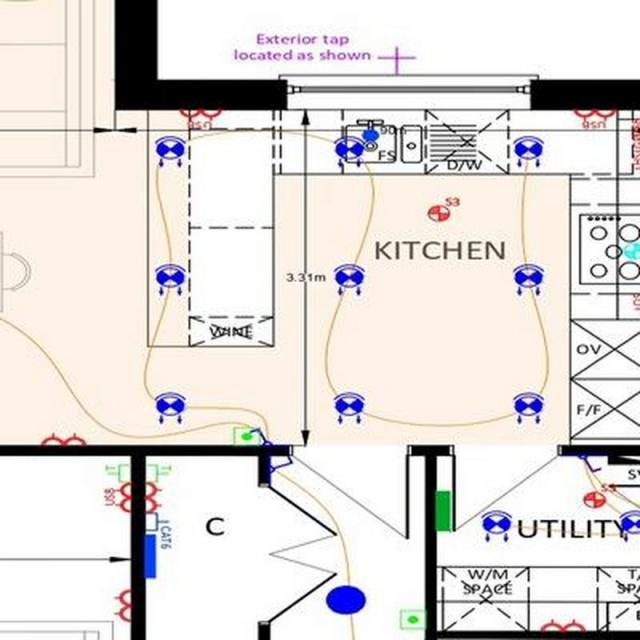Cat 6 Data Socket: (145, 511, 173, 549)
Ceiling Mounted Continuous Extract FanWith Boost Mode Activated By Light Switch: (624, 242, 639, 258)
Ceiling Mounted Continuous Extract FanWith Local Boost Switch: (426, 196, 459, 221), (582, 483, 616, 507)
Double Socket: (112, 588, 130, 622), (40, 432, 86, 445), (540, 618, 585, 630), (144, 482, 161, 511)
Light Switch: (250, 427, 276, 446), (270, 455, 292, 475), (578, 455, 602, 471)
Low Energy Downlighter: (512, 391, 543, 424), (480, 509, 511, 542), (513, 134, 543, 168), (154, 392, 186, 423), (154, 263, 185, 295), (154, 135, 185, 166), (333, 392, 365, 422), (334, 263, 364, 295), (513, 263, 543, 295), (334, 135, 363, 166), (620, 510, 639, 542)
Low Energy Pendant Light: (326, 584, 364, 614)
Outside Tap: (378, 46, 415, 74)
Programmable Room Thermostat: (400, 609, 425, 628), (234, 426, 258, 445)
Radiator: (434, 490, 450, 530)
Telephone Socket: (104, 462, 130, 482), (145, 462, 170, 482)
Twin LED Strip Light: (144, 534, 156, 578)
USB Double Socket: (178, 109, 220, 128), (573, 109, 614, 128), (104, 483, 130, 512)
